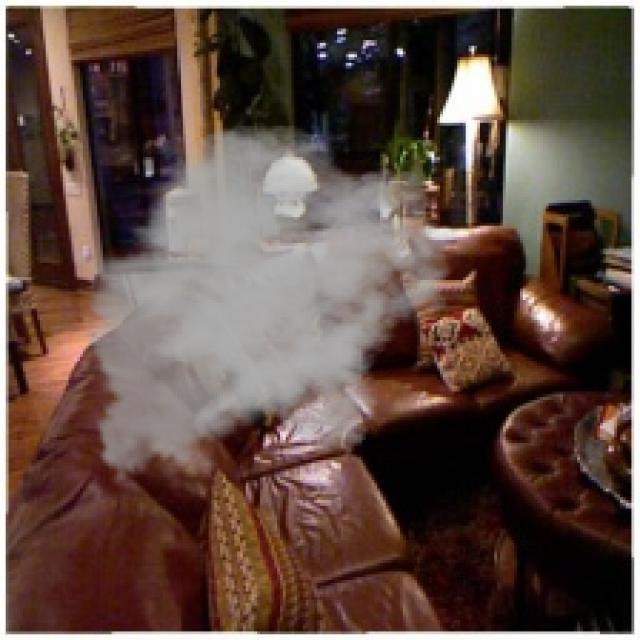smoke: (74, 123, 463, 491)
